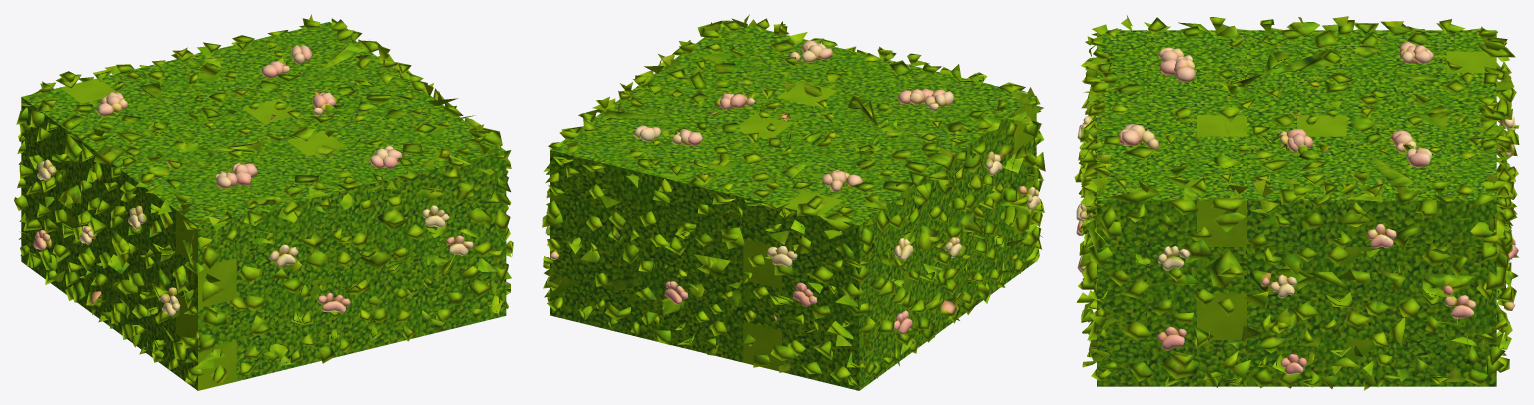
File: pawprint-hedge-fixed-v1.glb
3 views of the same model, side by side, from view 1: azimuth 30°, elevation 25°; view 2: azimuth 150°, elevation 25°; view 3: azimuth 270°, elevation 25° (orthographic). The views are drawn at different scales.
Parts seen in each view (by area): view 1: Pawprint_Hedge_Repaired; view 2: Pawprint_Hedge_Repaired; view 3: Pawprint_Hedge_Repaired.
Boxes of the visible parts, left/top/right/bottom form: Pawprint_Hedge_Repaired: left=14, top=14, right=513, bottom=390; Pawprint_Hedge_Repaired: left=542, top=14, right=1045, bottom=390; Pawprint_Hedge_Repaired: left=1074, top=15, right=1519, bottom=390.
Size of the model in its own units: 0.9624 by 0.4819 by 0.9424.
Materials: 1 (1 with a texture image).
